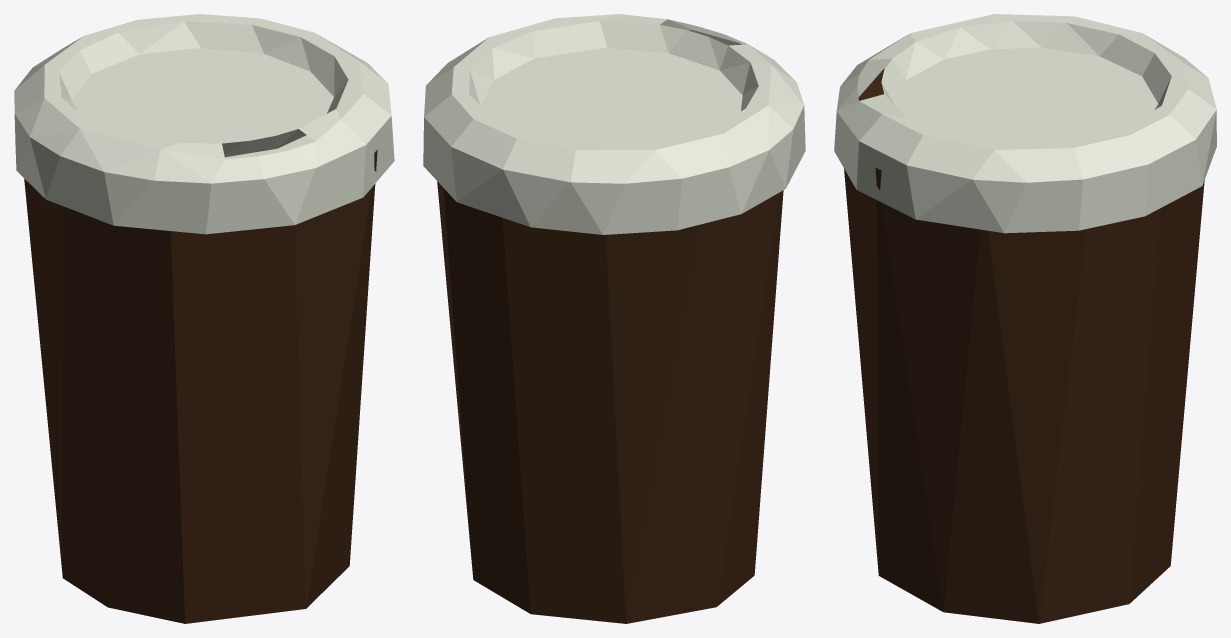
Rendered from KahveBardagiblend.fbx.
3 views of the same model, side by side, from view 1: azimuth 30°, elevation 25°; view 2: azimuth 150°, elevation 25°; view 3: azimuth 270°, elevation 25° (orthographic).
Visible parts, largest first — view 1: Cylinder, Cylinder.001; view 2: Cylinder, Cylinder.001; view 3: Cylinder, Cylinder.001.
Boxes of the visible parts, x1,y1,x2,y2 form: Cylinder: (24,149,377,623); Cylinder.001: (14,14,394,234); Cylinder: (437,181,783,623); Cylinder.001: (423,14,805,234); Cylinder: (844,69,1204,623); Cylinder.001: (834,14,1216,233).
Bounding box in the file's own units: 18.83 × 26.19 × 18.94.
